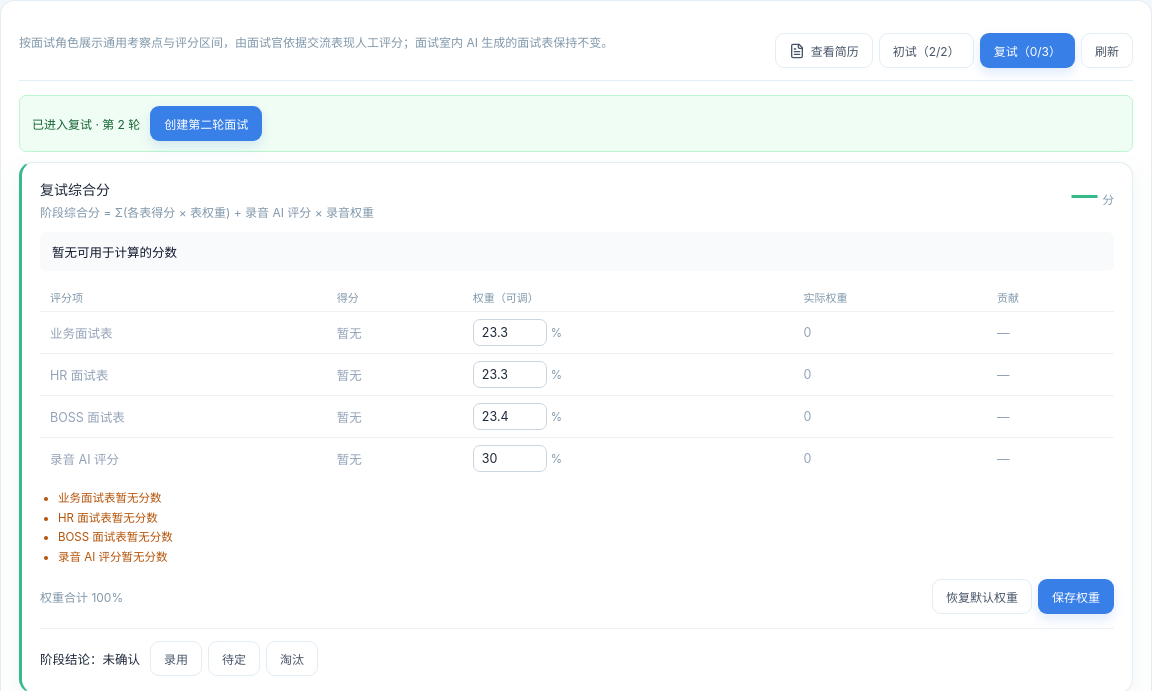
Test: 复试阶段流转 › 旧版只有晋级结论的记录可显式补齐第二轮，点击后反馈结果
Click the button "创建第二轮面试".
click(206, 124)  # box [150,106,262,141]
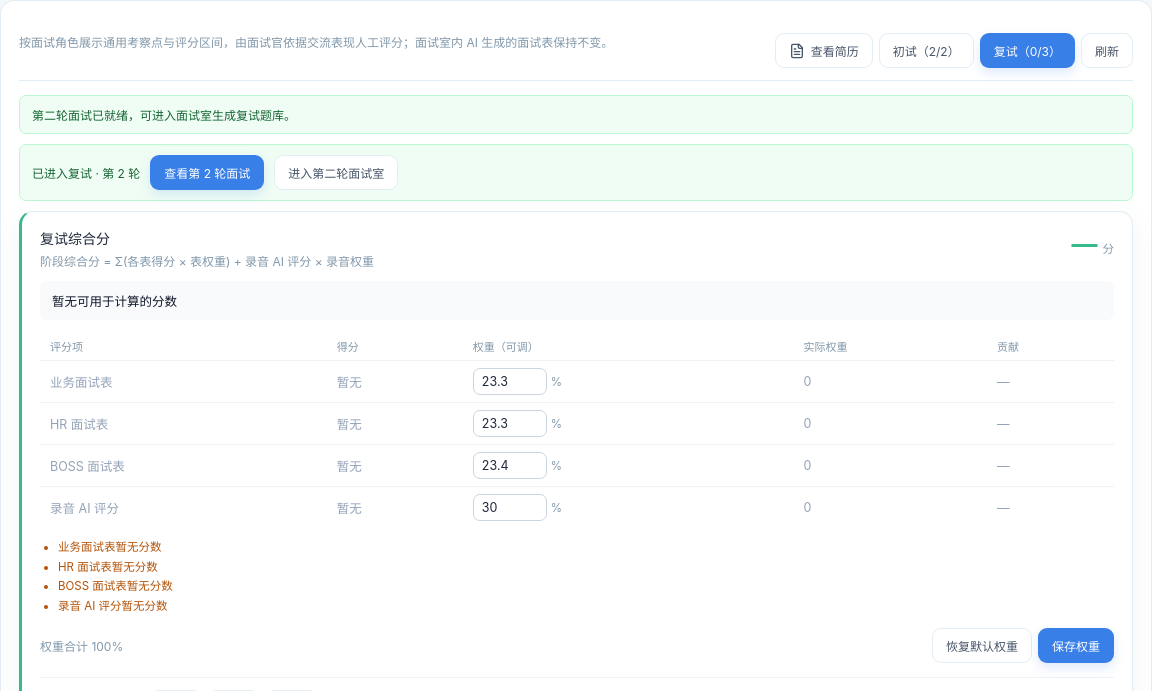
Expected: the link to "/interviews/round-2/live" is shown, [274,155,398,190]
Expected: the text "第二轮面试已就绪" is shown, [32,108,296,123]
